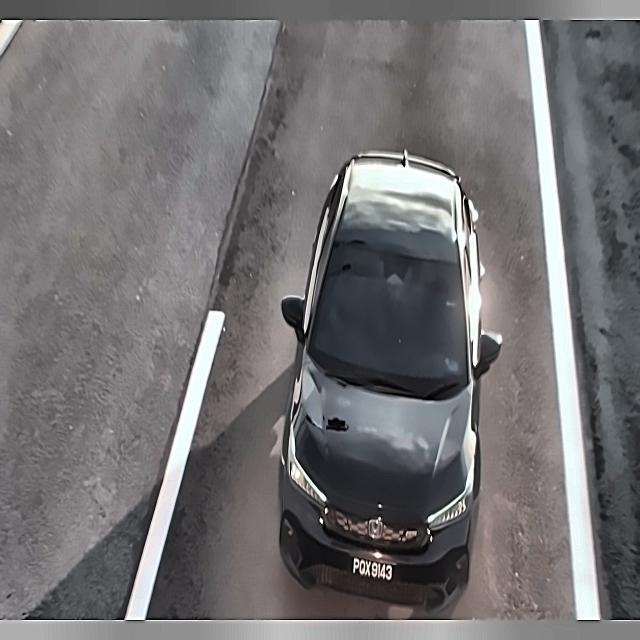car: (344, 545, 400, 590)
